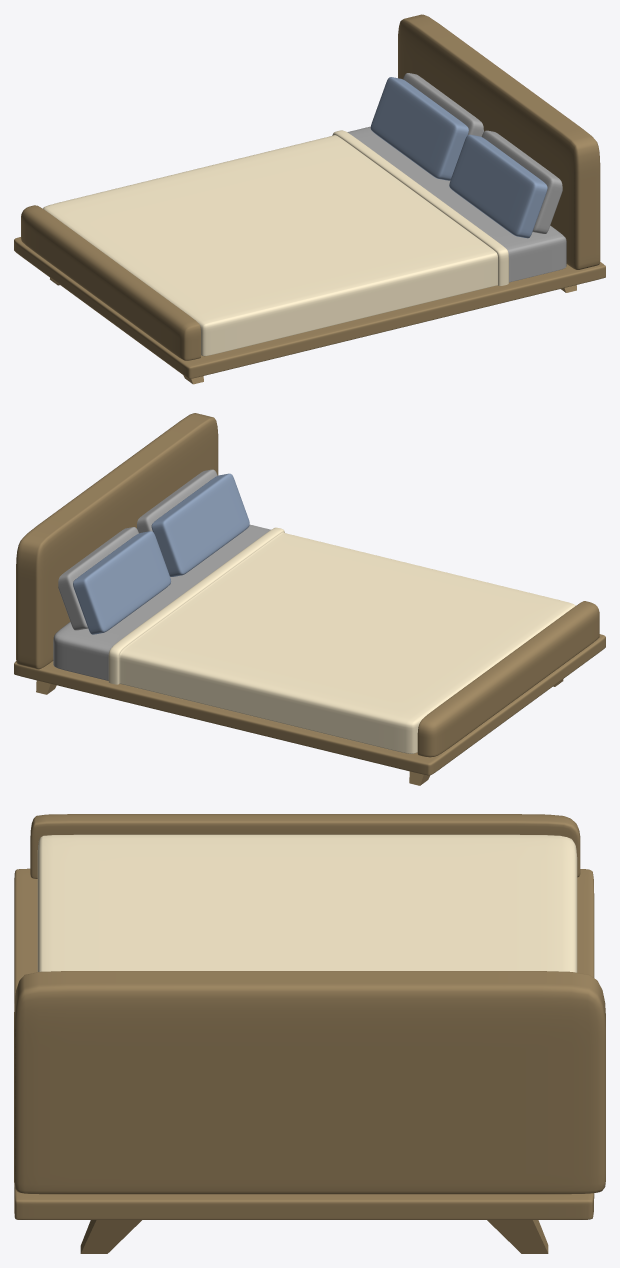
The model's file is M_Cama.fbx.
3 renders of one model, top to bottom at view 1: azimuth 30°, elevation 25°; view 2: azimuth 150°, elevation 25°; view 3: azimuth 270°, elevation 25°, orthographic. The views are drawn at different scales.
Parts seen in each view (by area): view 1: Cama_pCube1; view 2: Cama_pCube1; view 3: Cama_pCube1.
Boxes of the visible parts, x1,y1,x2,y2 form: Cama_pCube1: (14, 14, 605, 384); Cama_pCube1: (14, 413, 605, 785); Cama_pCube1: (14, 814, 605, 1253).
Size of the model in its own units: 33.15 by 12.46 by 24.86.
